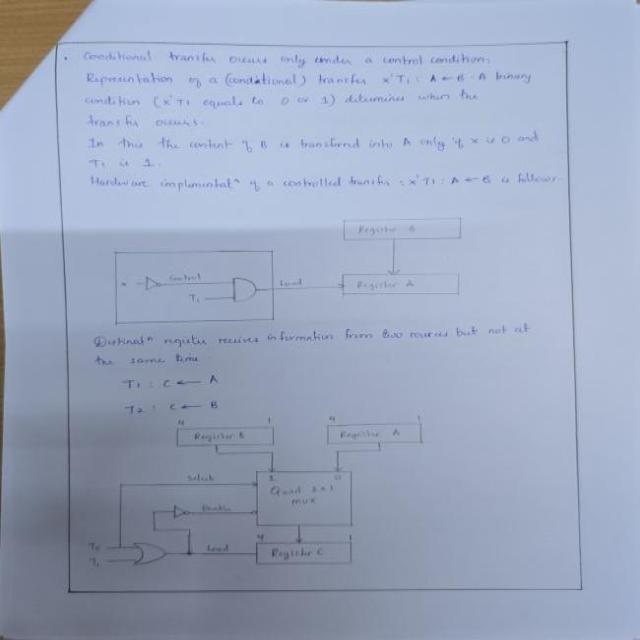Figure Detection - v3 Dataset Version2: (74, 409, 468, 583), (90, 205, 511, 330)
